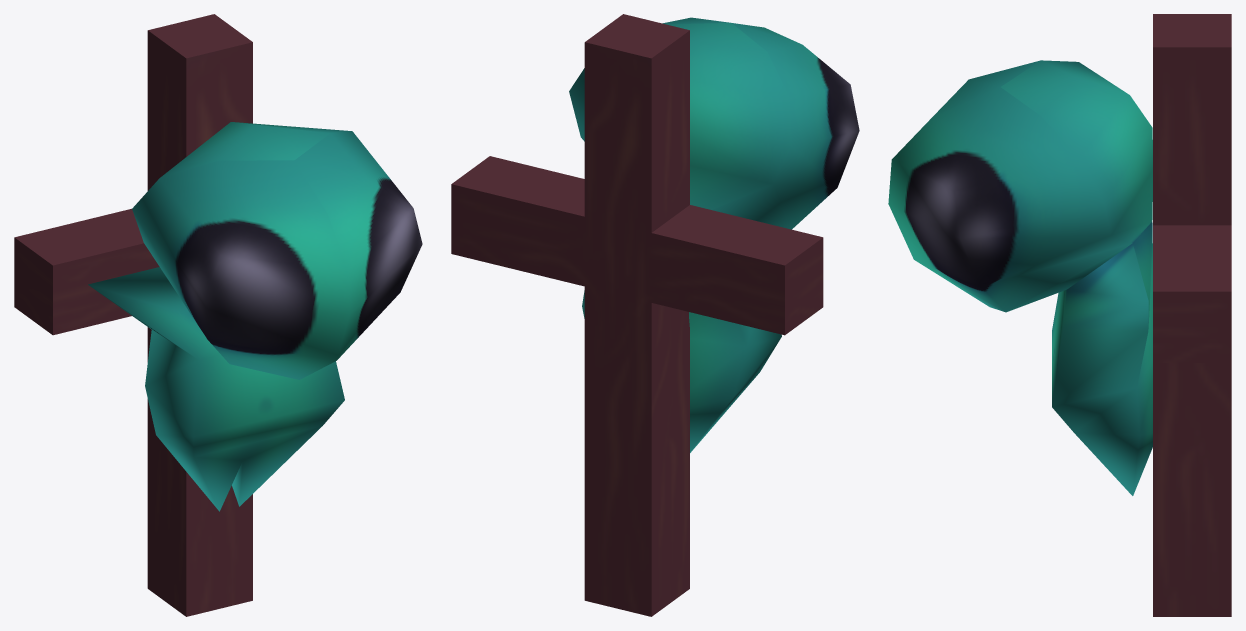
The model's file is alienresult.fbx.
3 views of the same model, side by side, from view 1: azimuth 30°, elevation 25°; view 2: azimuth 150°, elevation 25°; view 3: azimuth 270°, elevation 25° (orthographic). The views are drawn at different scales.
Parts seen in each view (by area): view 1: alien; view 2: alien; view 3: alien.
Part boxes in pixels (bbox=[...]): alien: bbox=[14, 14, 422, 616]; alien: bbox=[451, 14, 859, 616]; alien: bbox=[888, 14, 1231, 616].
Bounding box in the file's own units: 200 × 320 × 175.
